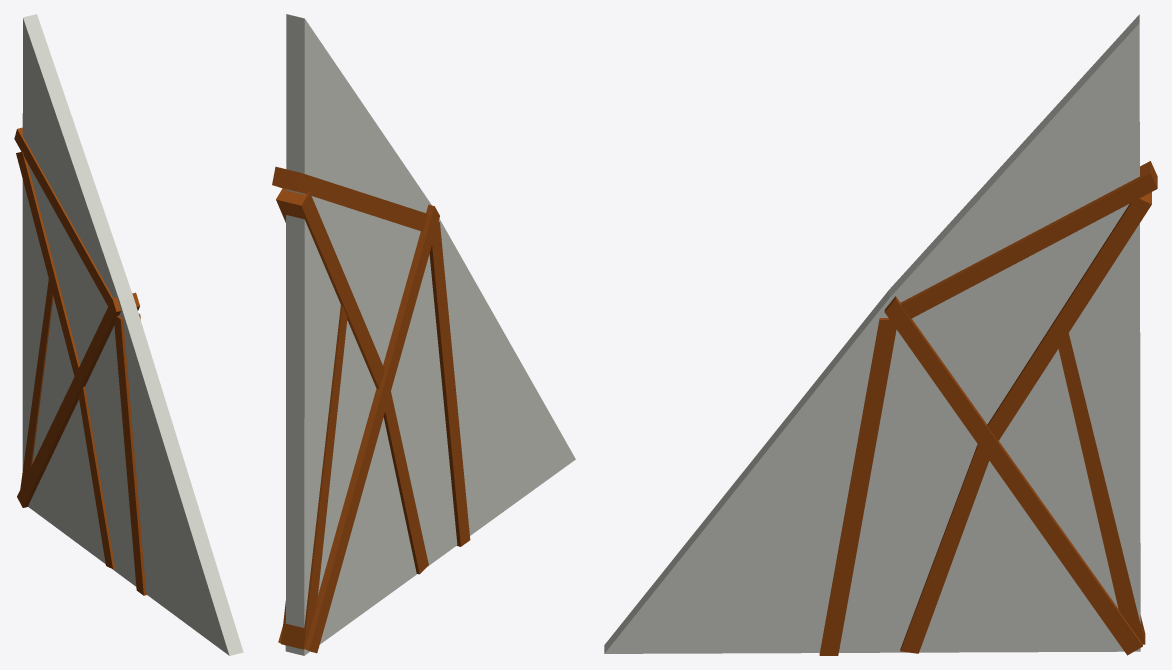
File: DoubleHeightRoofWall2.fbx
3 views of the same model, side by side, from view 1: azimuth 30°, elevation 25°; view 2: azimuth 150°, elevation 25°; view 3: azimuth 270°, elevation 25° (orthographic). The views are drawn at different scales.
Visible parts, largest first — view 1: ShortWall.029; view 2: ShortWall.029; view 3: ShortWall.029.
Part boxes in pixels (left/top/right/bottom): ShortWall.029: left=14, top=14, right=243, bottom=655; ShortWall.029: left=272, top=14, right=575, bottom=655; ShortWall.029: left=604, top=14, right=1157, bottom=655.
Size of the model in its own units: 126 by 2480 by 1970.
